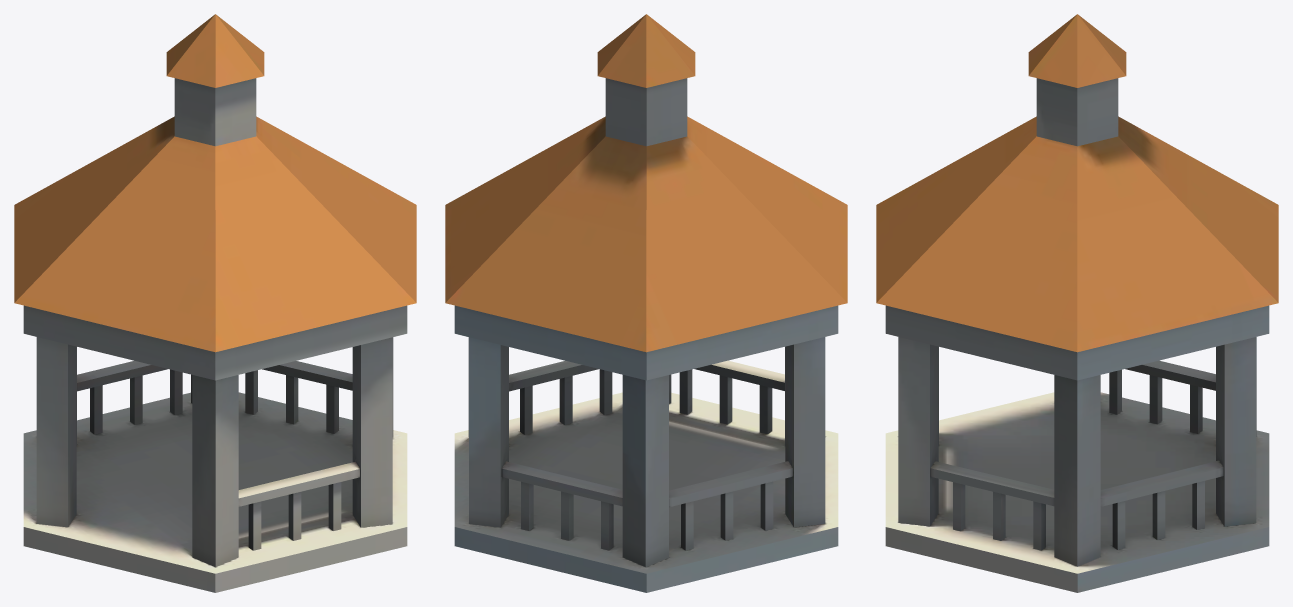
3 renders of one model, left to right at view 1: azimuth 30°, elevation 25°; view 2: azimuth 150°, elevation 25°; view 3: azimuth 270°, elevation 25°, orthographic.
Parts seen in each view (by area): view 1: gazebo; view 2: gazebo; view 3: gazebo.
Boxes of the visible parts, <box> form: gazebo: <box>14,14,416,592</box>; gazebo: <box>445,14,847,592</box>; gazebo: <box>876,14,1278,592</box>.
Size of the model in its own units: 0.8678 by 1 by 0.7516.
Materials: 1 (1 with a texture image).
